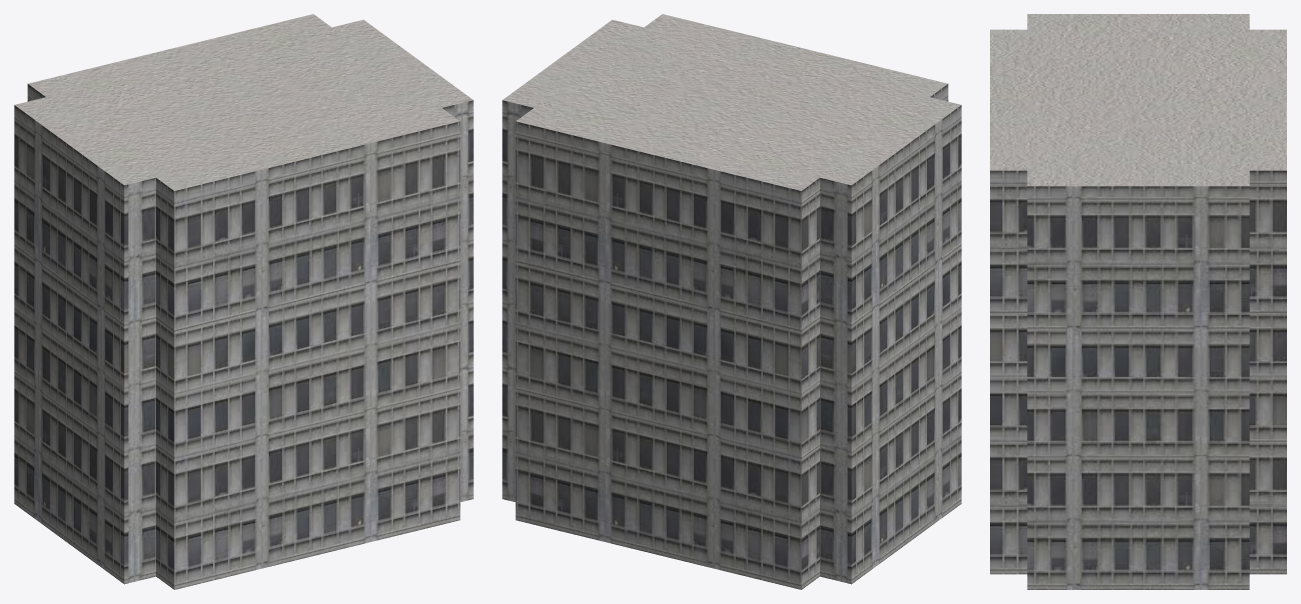
The model's file is building_018.glb.
3 renders of one model, left to right at view 1: azimuth 30°, elevation 25°; view 2: azimuth 150°, elevation 25°; view 3: azimuth 270°, elevation 25°, orthographic.
Visible parts, largest first — view 1: building_018; view 2: building_018; view 3: building_018.
Part boxes in pixels (x1=…): building_018: x1=14, y1=14, x2=473, y2=589; building_018: x1=502, y1=14, x2=961, y2=589; building_018: x1=990, y1=14, x2=1286, y2=589.
Size of the model in its own units: 1650 by 1800 by 1200.
Materials: 2 (2 with a texture image).
